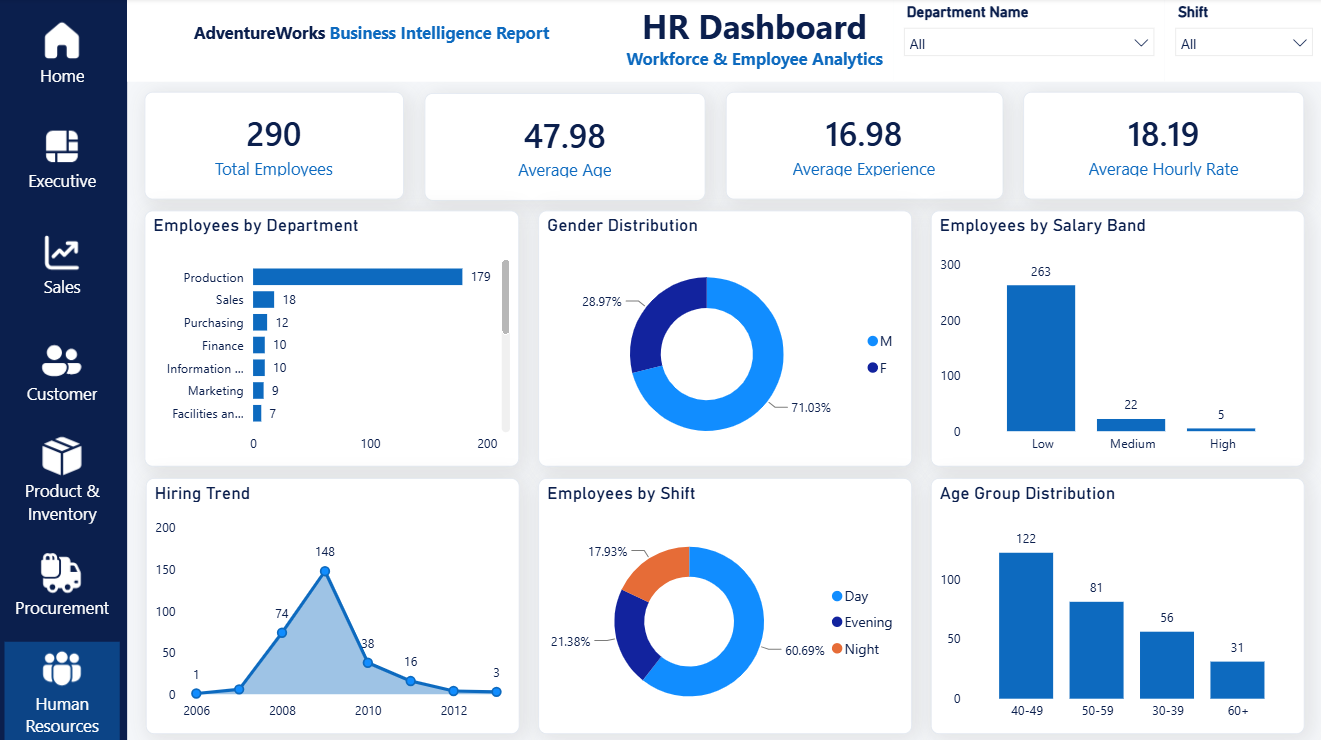

The dashboard page shown, as its layout file describes it:
{"tool":"powerbi","page":{"name":"HR Dashboard","canvas":[1280,720],"ordinal":6},"visuals":[{"type":"cardVisual","title":"Total Employees","fields":{"Data":["Measures (2).Total Employees"]},"box":[141.8,90.5,250.7,103.9],"z":0},{"type":"cardVisual","title":"Average Age","fields":{"Data":["Measures (2).Average Age"]},"box":[412.1,91.7,271.5,103.9],"z":1000},{"type":"cardVisual","title":"Average Experience","fields":{"Data":["Measures (2).Average Experience"]},"box":[703.1,90.5,267.8,103.9],"z":2000},{"type":"cardVisual","title":"Average Hourly Rate","fields":{"Data":["Measures (2).Average Hourly Rate"]},"box":[990.5,90.5,271.5,103.9],"z":3000},{"type":"barChart","title":"Employees by Department","fields":{"Y":["Count(gold dim_employee.EmployeeID)"],"Category":["gold dim_employee.DepartmentName"]},"box":[141.8,205.4,362,247],"z":4000},{"type":"donutChart","title":"Gender Distribution","fields":{"Y":["Count(gold dim_employee.EmployeeID)"],"Category":["gold dim_employee.Gender"]},"box":[522.1,205.4,360.7,247],"z":5000},{"type":"columnChart","title":"Employees by Salary Band","fields":{"Y":["Count(gold dim_employee.EmployeeID)"],"Category":["gold dim_employee.SalaryBand"]},"box":[901.2,205.4,360.7,247],"z":6000},{"type":"lineChart","title":"Hiring Trend","fields":{"Y":["Count(gold dim_employee.EmployeeID)"],"Category":["gold dim_employee.HireDate.Variation.Date Hierarchy.Year"]},"box":[143.1,463.5,360.7,247],"z":7000},{"type":"donutChart","title":"Employees by Shift","fields":{"Y":["Count(gold dim_employee.EmployeeID)"],"Category":["gold dim_employee.ShiftName"]},"box":[522.1,463.5,360.7,247],"z":8000},{"type":"columnChart","title":"Age Group Distribution","fields":{"Y":["Count(gold dim_employee.EmployeeID)"],"Category":["gold dim_employee.Age Group"]},"box":[901.2,463.5,360.7,247],"z":9000},{"type":"slicer","fields":{"Values":["gold dim_employee.DepartmentName"]},"box":[864.5,0,261.7,80.7],"z":10000},{"type":"slicer","fields":{"Values":["gold dim_employee.ShiftName"]},"box":[1126.8,0,153.2,80.8],"z":11000},{"type":"textbox","box":[597.2,0,267.8,80.8],"z":12000},{"type":"shape","box":[0,0,126,720],"z":13000},{"type":"actionButton","box":[7.3,4.9,111.3,95.4],"z":14000},{"type":"actionButton","box":[7.3,106.4,111.3,95.4],"z":15000},{"type":"actionButton","box":[7.3,209.1,111.3,95.4],"z":16000},{"type":"actionButton","box":[7.3,313,111.3,95.4],"z":17000},{"type":"actionButton","box":[7.3,415.8,111.3,95.4],"z":18000},{"type":"actionButton","box":[7.3,518.5,111.3,95.4],"z":19000},{"type":"actionButton","box":[7.3,621.2,111.3,95.4],"z":20000},{"type":"textbox","box":[126,0,472,80.7],"z":21000}]}

Visuals, with their boxes on the page's 1280x720 design canvas (x1, y1, x2, y2). These are canvas units, not pixel positions in the 1321x740 screenshot, which may show the page scaled, cropped or inside an application window:
"Total Employees" cardVisual: 142/90/392/194
"Average Age" cardVisual: 412/92/684/196
"Average Experience" cardVisual: 703/90/971/194
"Average Hourly Rate" cardVisual: 990/90/1262/194
"Employees by Department" barChart: 142/205/504/452
"Gender Distribution" donutChart: 522/205/883/452
"Employees by Salary Band" columnChart: 901/205/1262/452
"Hiring Trend" lineChart: 143/464/504/710
"Employees by Shift" donutChart: 522/464/883/710
"Age Group Distribution" columnChart: 901/464/1262/710
slicer - gold dim_employee.DepartmentName: 864/0/1126/81
slicer - gold dim_employee.ShiftName: 1127/0/1280/81
textbox: 597/0/865/81
shape: 0/0/126/720
actionButton: 7/5/119/100
actionButton: 7/106/119/202
actionButton: 7/209/119/304
actionButton: 7/313/119/408
actionButton: 7/416/119/511
actionButton: 7/518/119/614
actionButton: 7/621/119/717
textbox: 126/0/598/81
